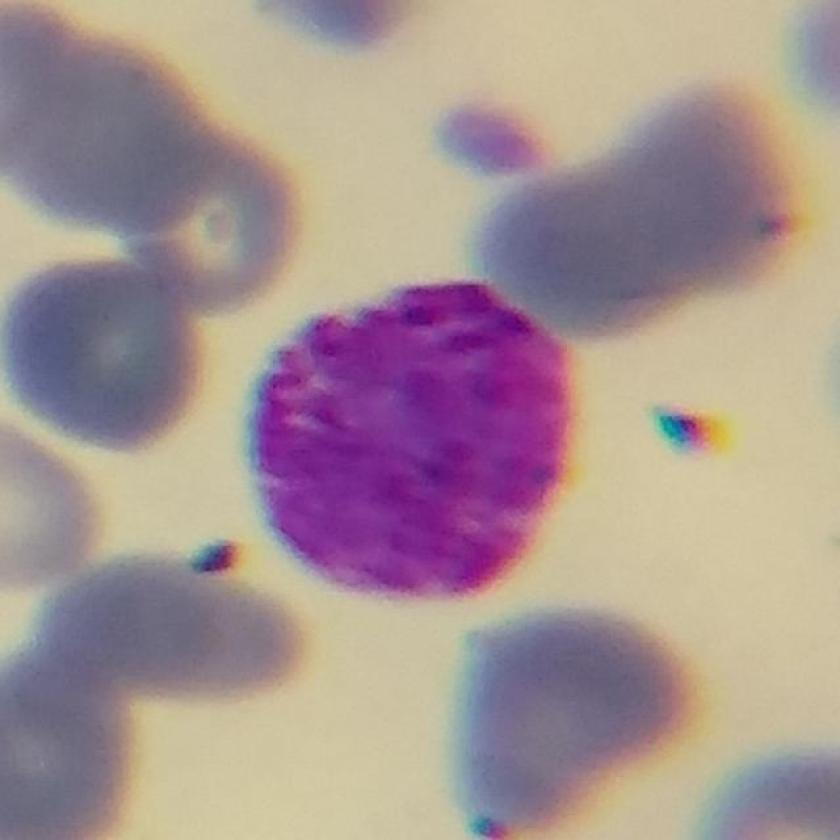basophil: (249, 253, 594, 613)
